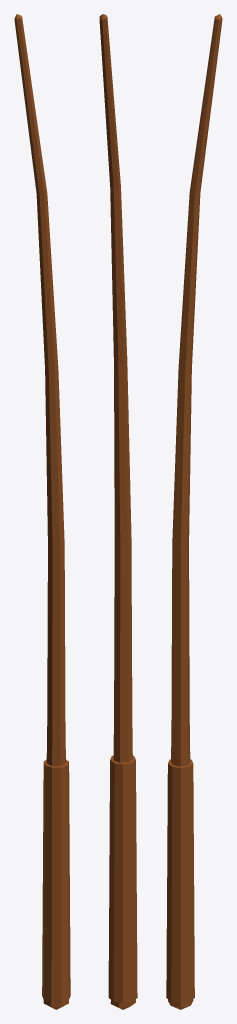
The model's file is FishingRod_2.fbx.
3 renders of one model, left to right at view 1: azimuth 90°, elevation 25°; view 2: azimuth 150°, elevation 25°; view 3: azimuth 270°, elevation 25°, orthographic.
Visible parts, largest first — view 1: pCylinder3; view 2: pCylinder3; view 3: pCylinder3.
Boxes of the visible parts, bbox=[...] form: pCylinder3: bbox=[14, 14, 70, 1009]; pCylinder3: bbox=[99, 14, 137, 1009]; pCylinder3: bbox=[166, 14, 222, 1009].
Bounding box in the file's own units: 0.2171 × 8.5 × 0.4347.
